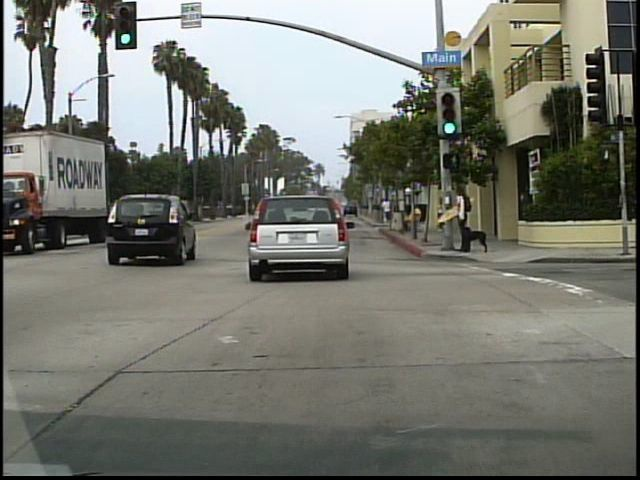person: (453, 184, 475, 251), (383, 195, 394, 226)
